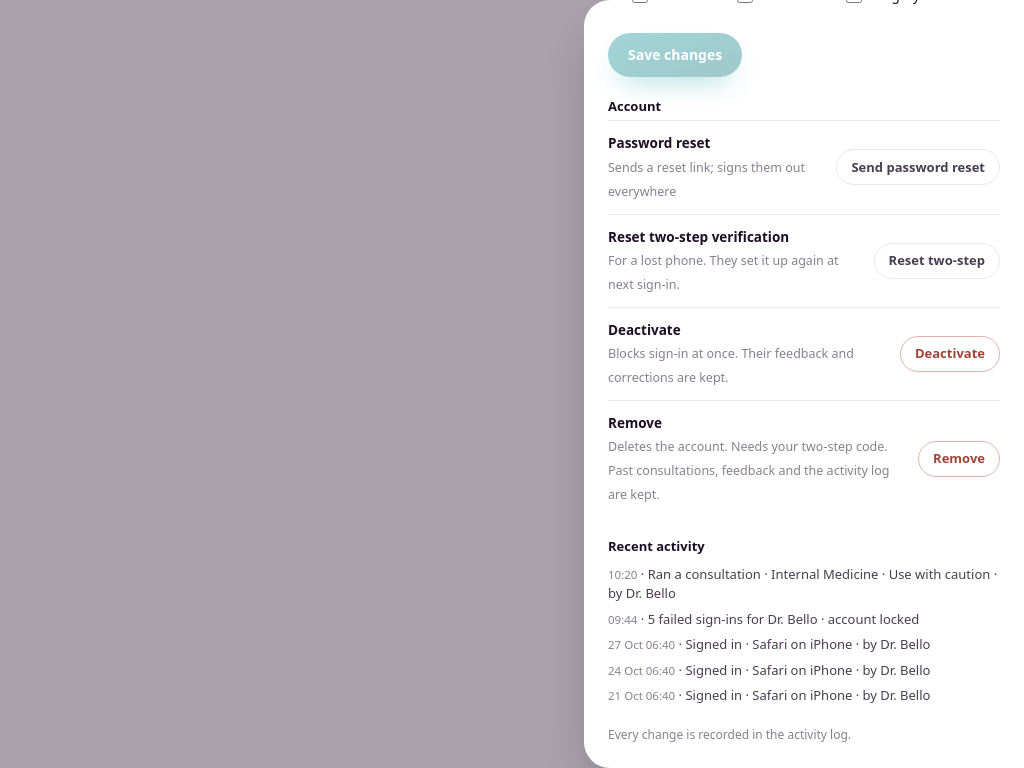
it: AccountActions › a wrong code keeps the person and the dialog, and says so
(page scrolled)
Click the button "Remove" at (959, 459), box [918, 441, 1000, 477]
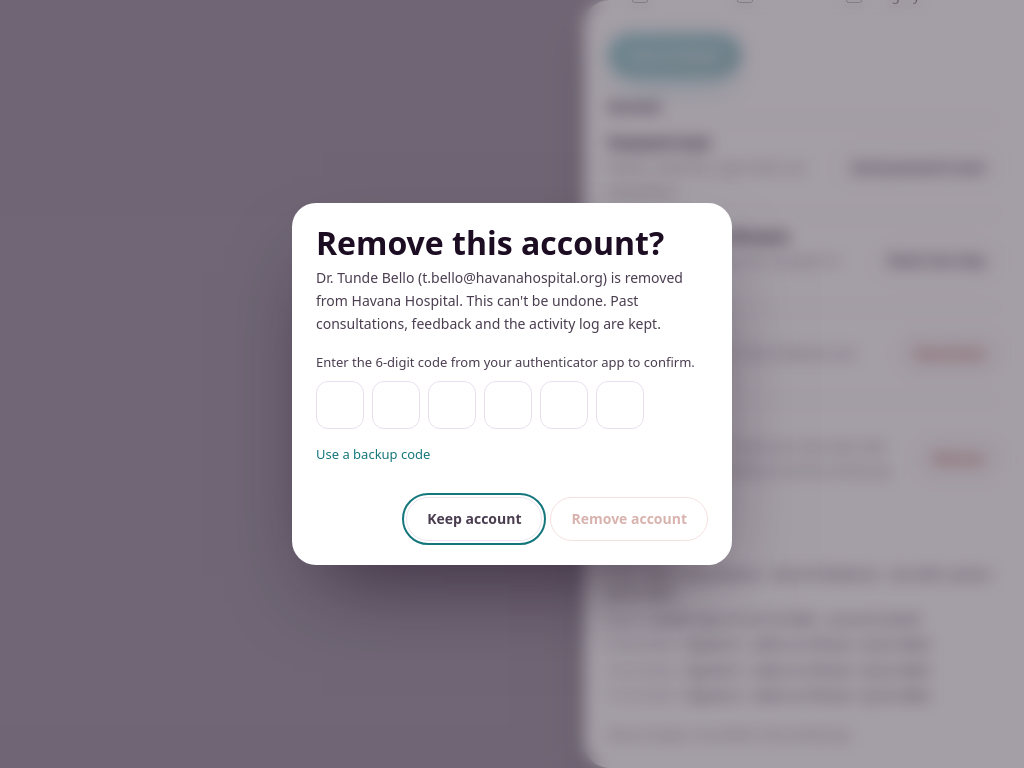
Click the field named "Digit 1 of 6" at (340, 405), box [316, 381, 364, 429]
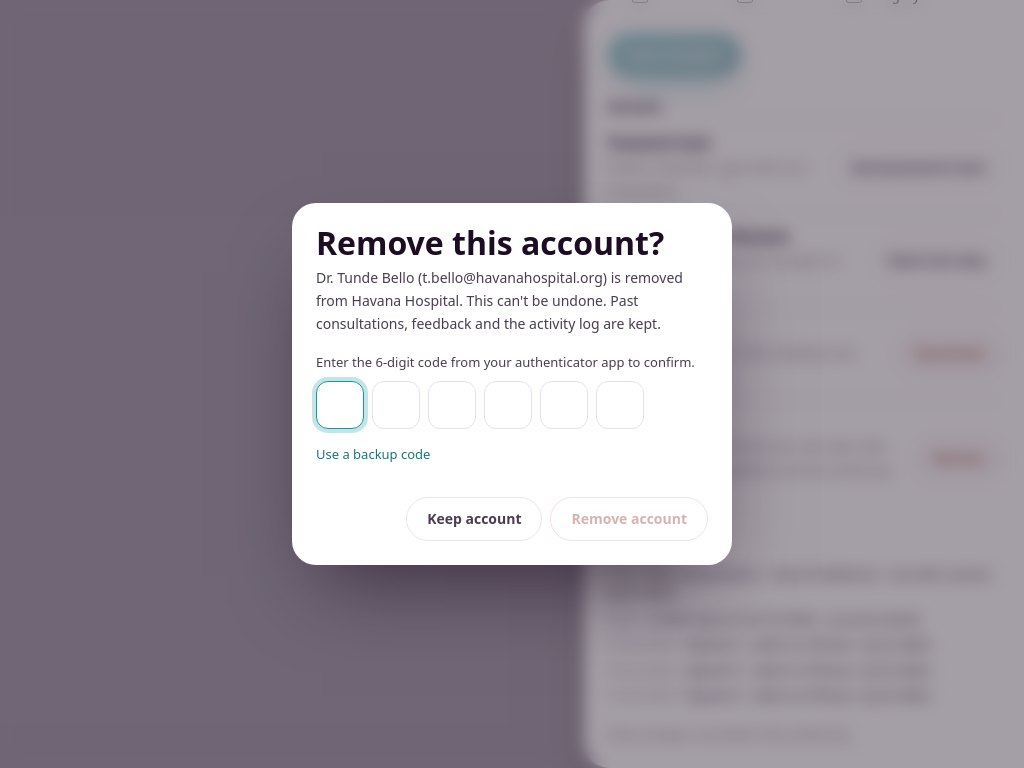
Type keys "000000"
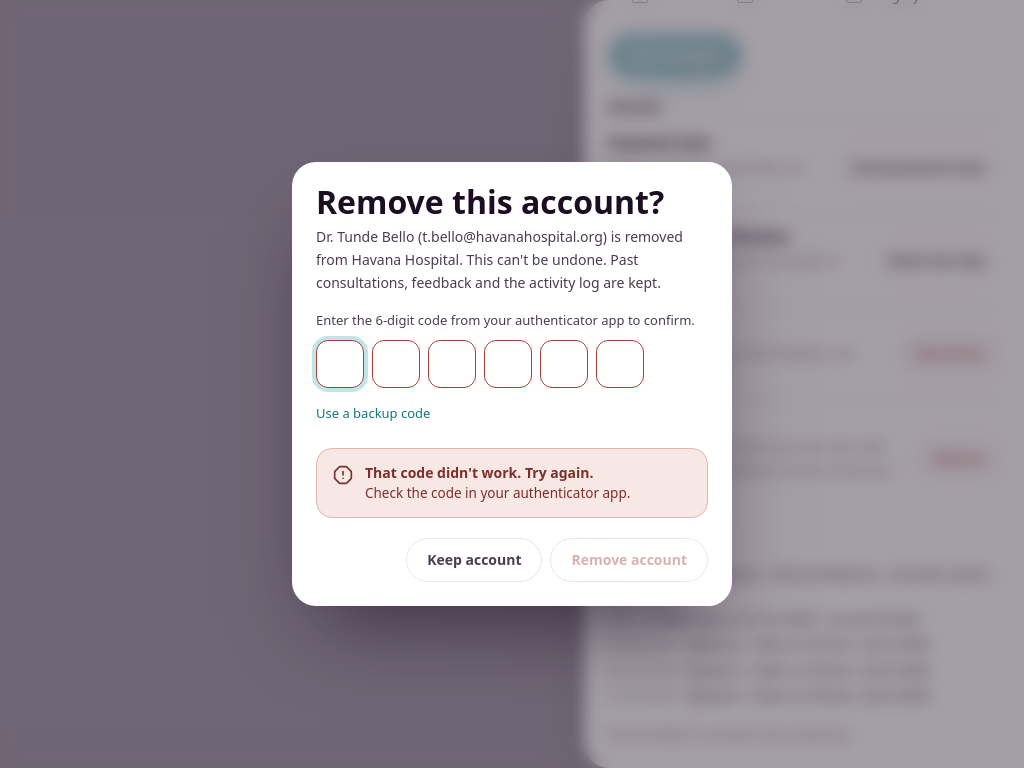
Expected: the dialog "Remove this account?" is shown, [292, 162, 732, 606]
Expected: the field named "Digit 1 of 6" is empty, [316, 340, 364, 388]
Expected: the text "That code didn't work. Try again." is shown, [365, 463, 630, 483]
